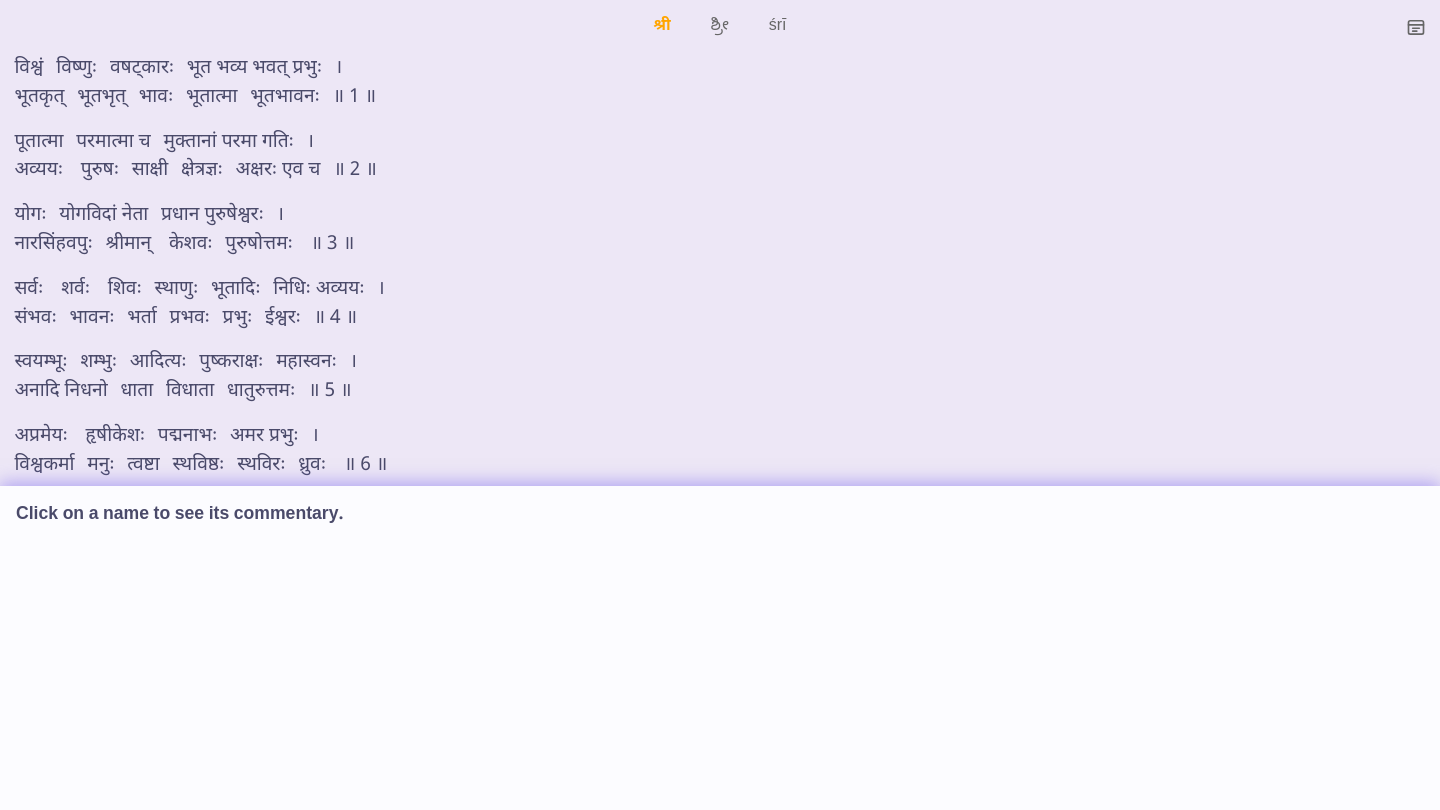
Word meaning and commentary display › shows meaning and commentary when a word is highlighted (click)
This screenshot has width=1440, height=810.
Click the text "विश्वं": [29, 68] box [14,56,43,81]
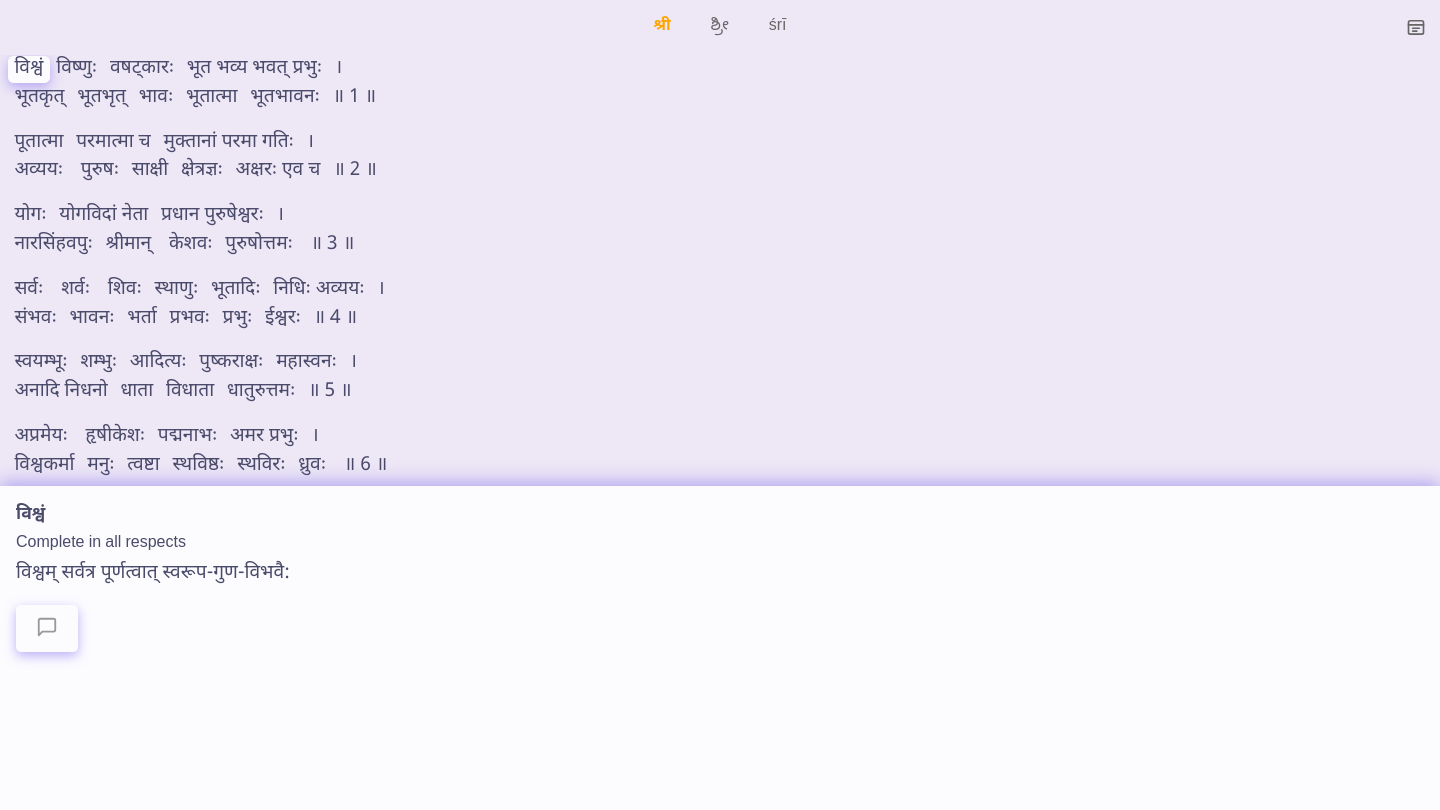
Expected: the element with test id "meaning-container" shows "Complete", [16,533,186,554]
Expected: the element with test id "meaning-container" shows "पूर्णत्वात्", [16,561,290,586]
